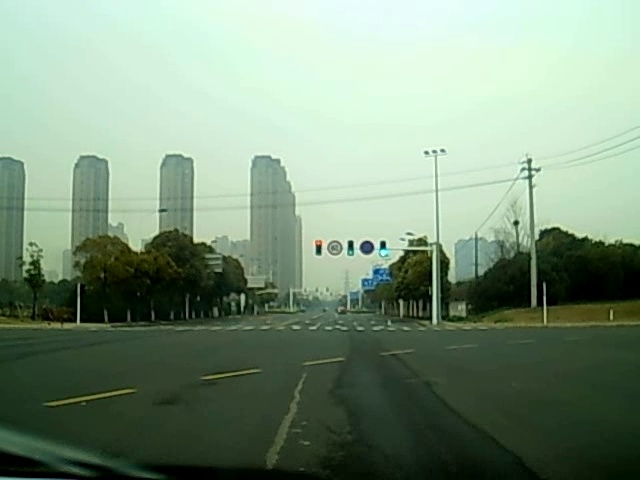Traffic_Light_go: (379, 241, 389, 259), (346, 241, 355, 257)
Traffic_Light_stop: (315, 240, 323, 256)
